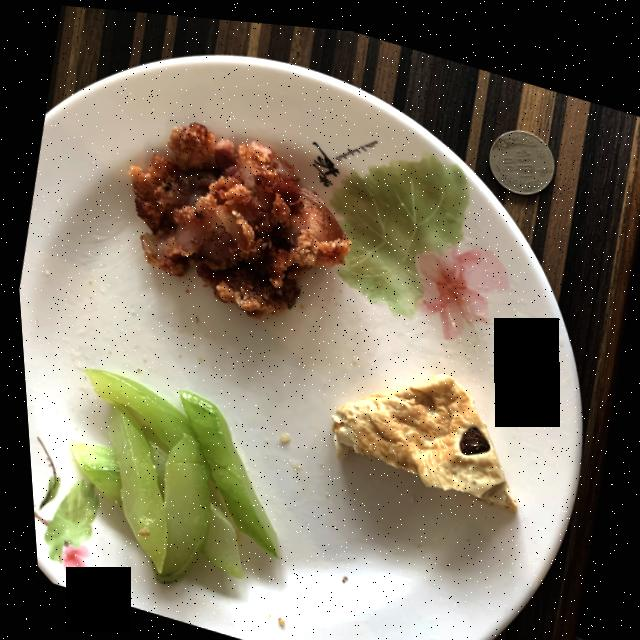coin: (487, 120, 553, 185)
red grilled pork: (127, 119, 346, 312)
